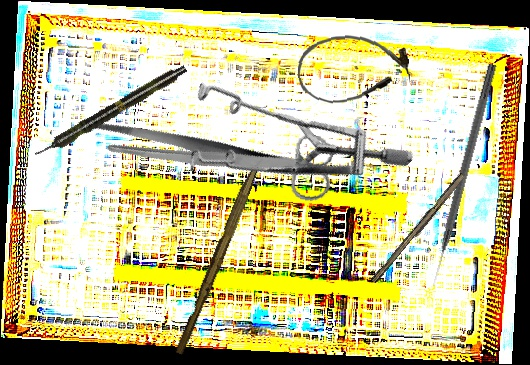Cannula: (295, 31, 412, 106)
Dressing Forceps: (89, 79, 298, 223)
Handpiece: (31, 61, 190, 162)
Hook Surgical: (427, 62, 498, 288)
Iris Scissors: (179, 111, 339, 205)
Scalpel Handle: (173, 161, 261, 357), (370, 170, 468, 287)
Speculum: (153, 16, 417, 276)
